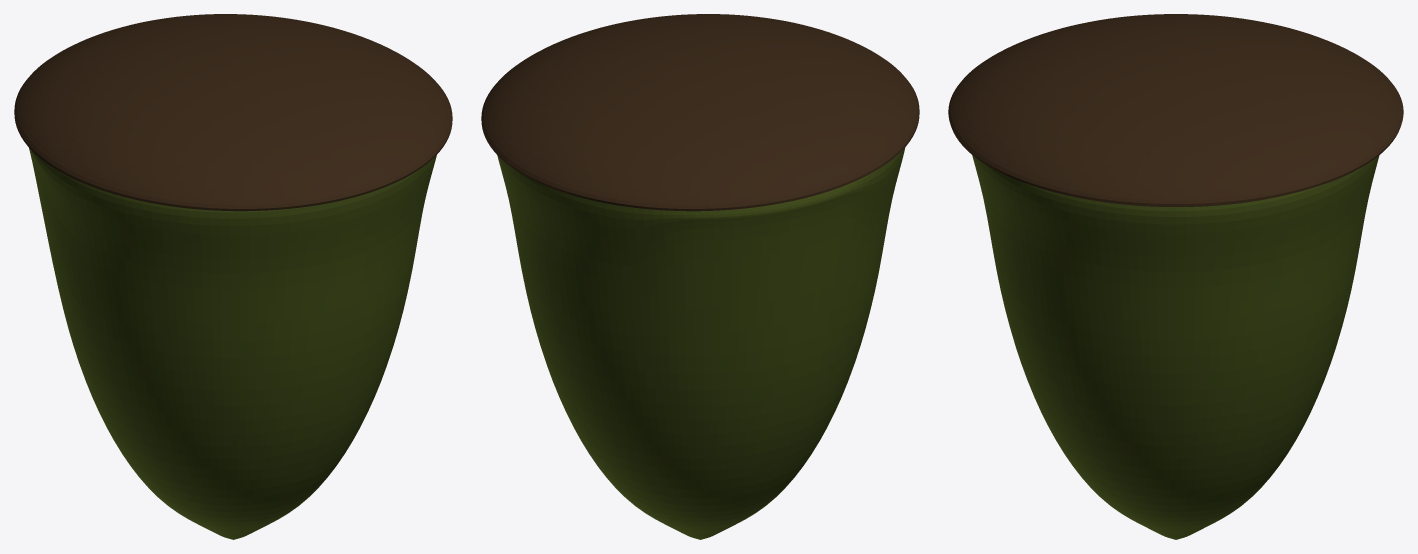
The model's file is Acorn.fbx.
3 views of the same model, side by side, from view 1: azimuth 30°, elevation 25°; view 2: azimuth 150°, elevation 25°; view 3: azimuth 270°, elevation 25° (orthographic).
Visible parts, largest first — view 1: Sphere; view 2: Sphere; view 3: Sphere.
Boxes of the visible parts, <box> form: Sphere: <box>14,14,452,539</box>; Sphere: <box>481,14,919,539</box>; Sphere: <box>948,14,1403,539</box>.
Size of the model in its own units: 221 by 266 by 231.
